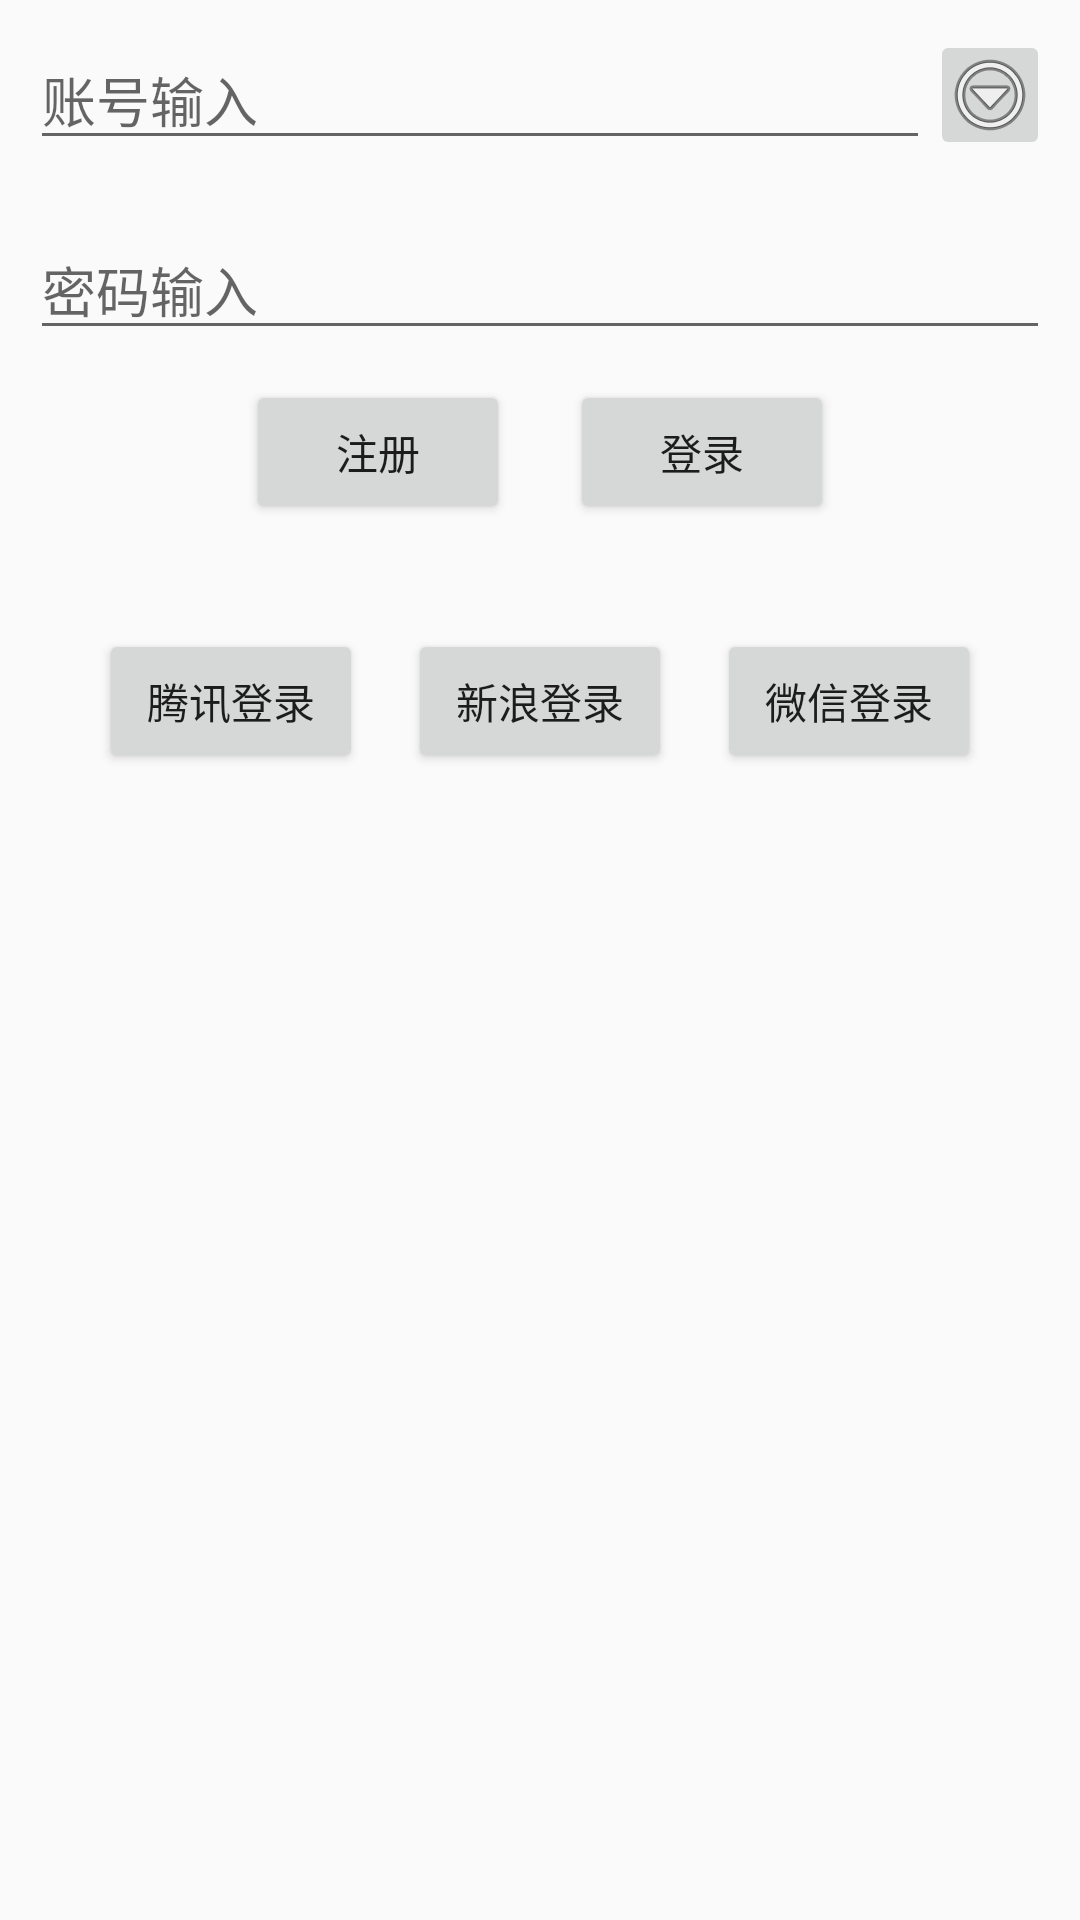

Icon click points for this 1080x1920 phone screenshot, format point (x, y):
more: point (990, 95)
